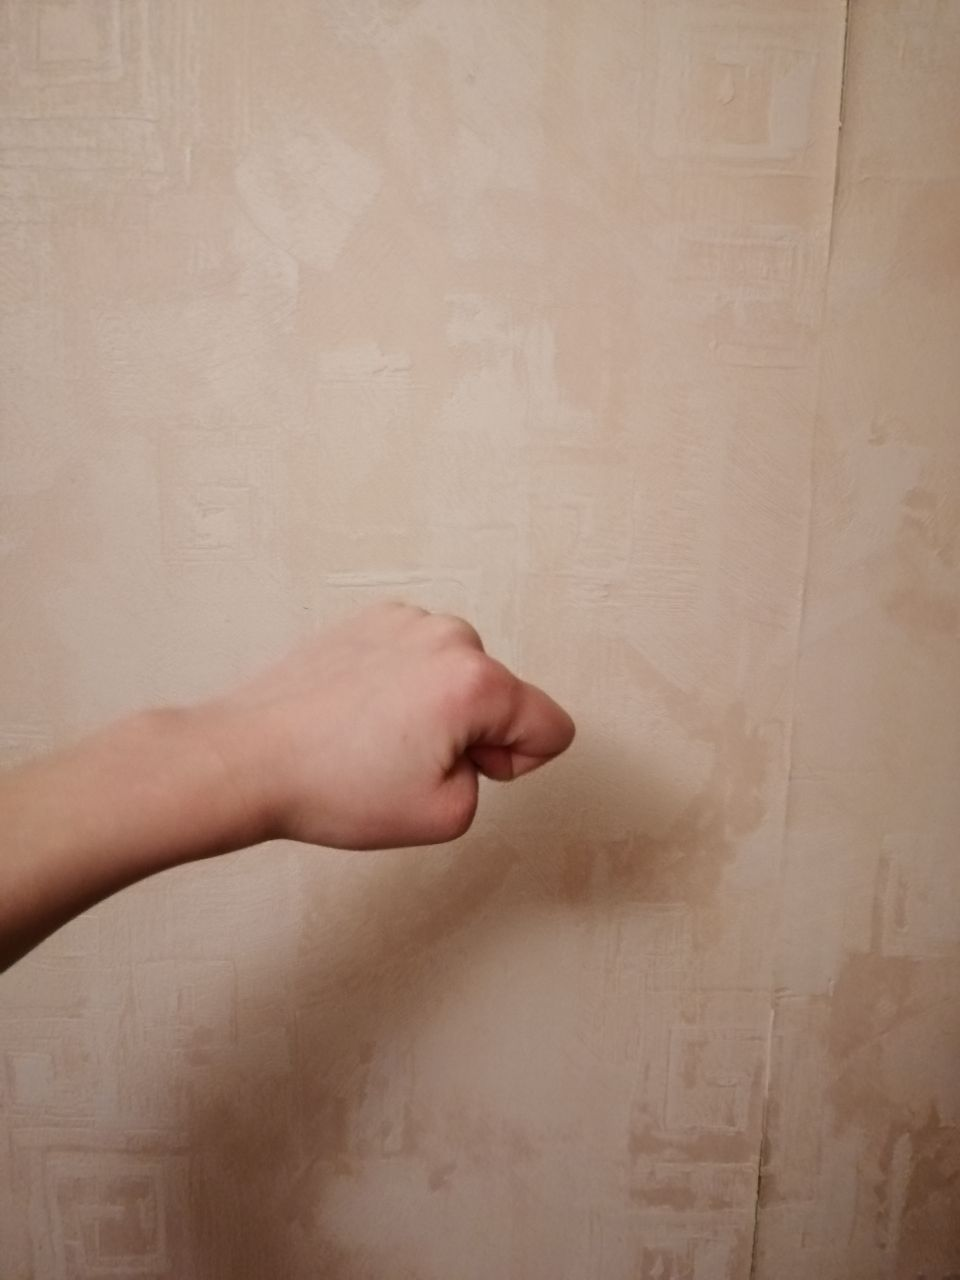hand: (229, 608, 541, 826)
